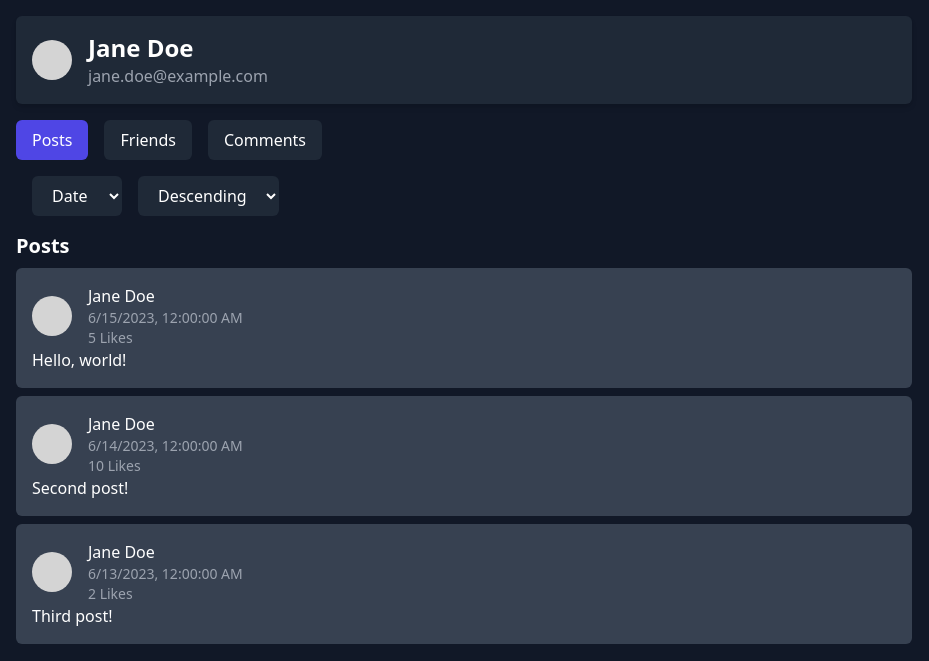
Test: UserProfile › renders user friends
# Click the friends tab button
Click the button "Friends": (148, 140) x1=104 y1=120 x2=192 y2=160
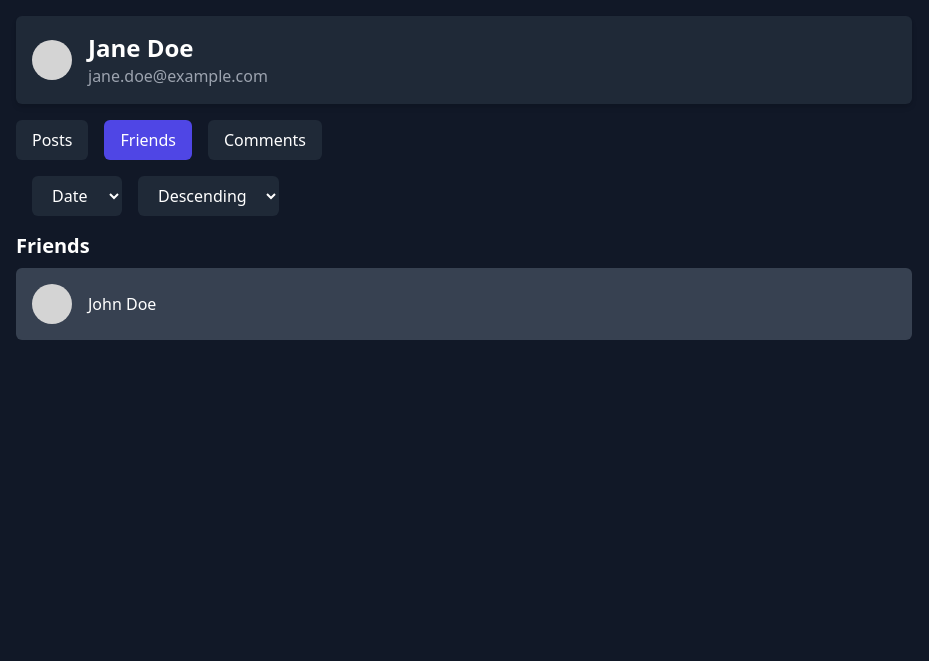
Now the link "John Doe" is shown, box x1=88 y1=292 x2=156 y2=316
